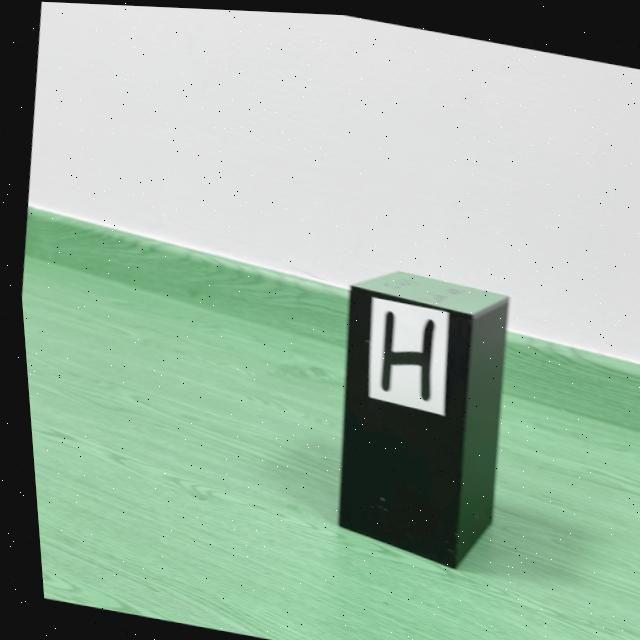H: (376, 307, 429, 397)
